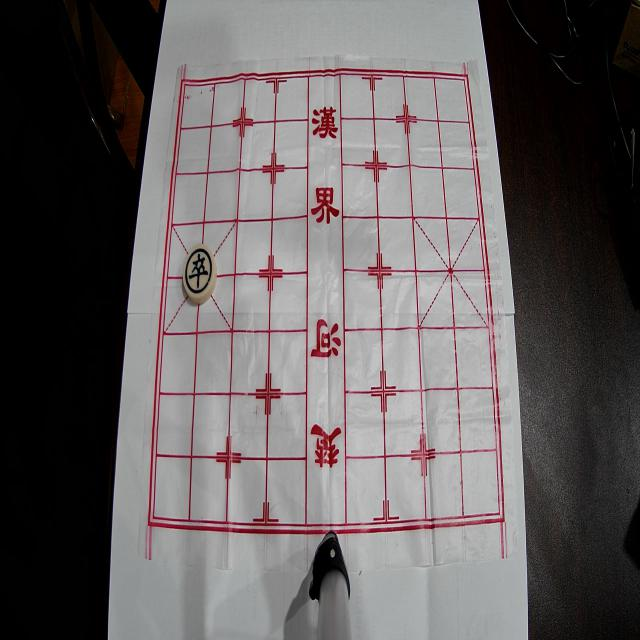black-soldier: (182, 244, 216, 303)
